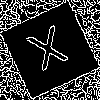X: (25, 25, 75, 81)
